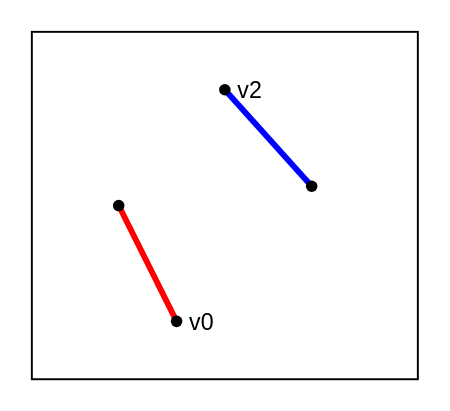
Image size: 450x411. Some labels were removed from this diagram. Here are the shapes that lost their labels. From the top down, the centre of each, then its label:
(117,204): v1
(310,185): v3
